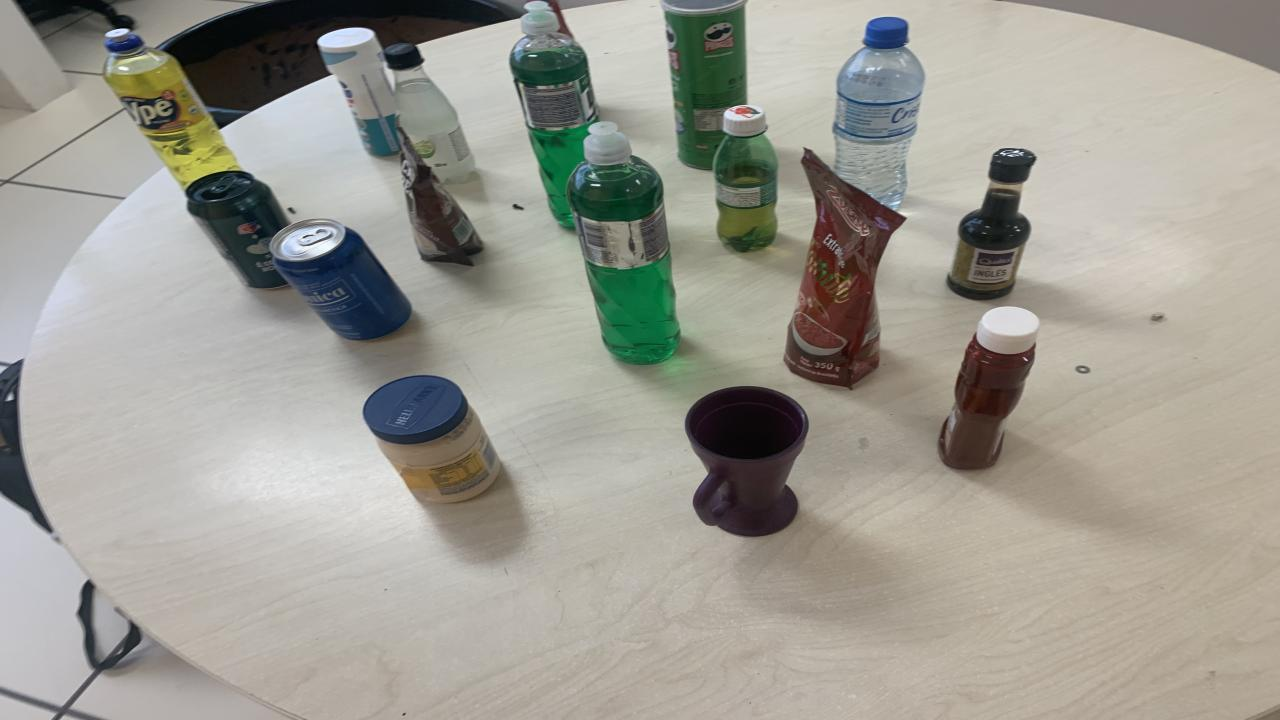Cleaner-Cleanup_Items: (318, 28, 398, 156)
Coffee-Pantry_Items: (400, 129, 482, 266)
Detergent-Cleanup_Items: (568, 122, 680, 364), (102, 28, 240, 188), (510, 0, 598, 229)
English_Sauce-Pantry_Items: (948, 148, 1035, 300)
Guarana-Drinks: (712, 105, 778, 251)
Guarana_Can-Drinks: (185, 171, 288, 289)
Ketchup-Pantry_Items: (938, 308, 1040, 469)
Mayonnaise-Pantry_Items: (362, 375, 500, 502)
Pringles-Snacks: (662, 0, 748, 169)
Soda-Drinks: (385, 43, 475, 182)
Tomato_Sauce-Pantry_Items: (785, 150, 905, 388), (545, 0, 572, 38)
Tonic-Drinks: (270, 218, 412, 339)
Water_Bottle-Drinks: (832, 17, 925, 208)
